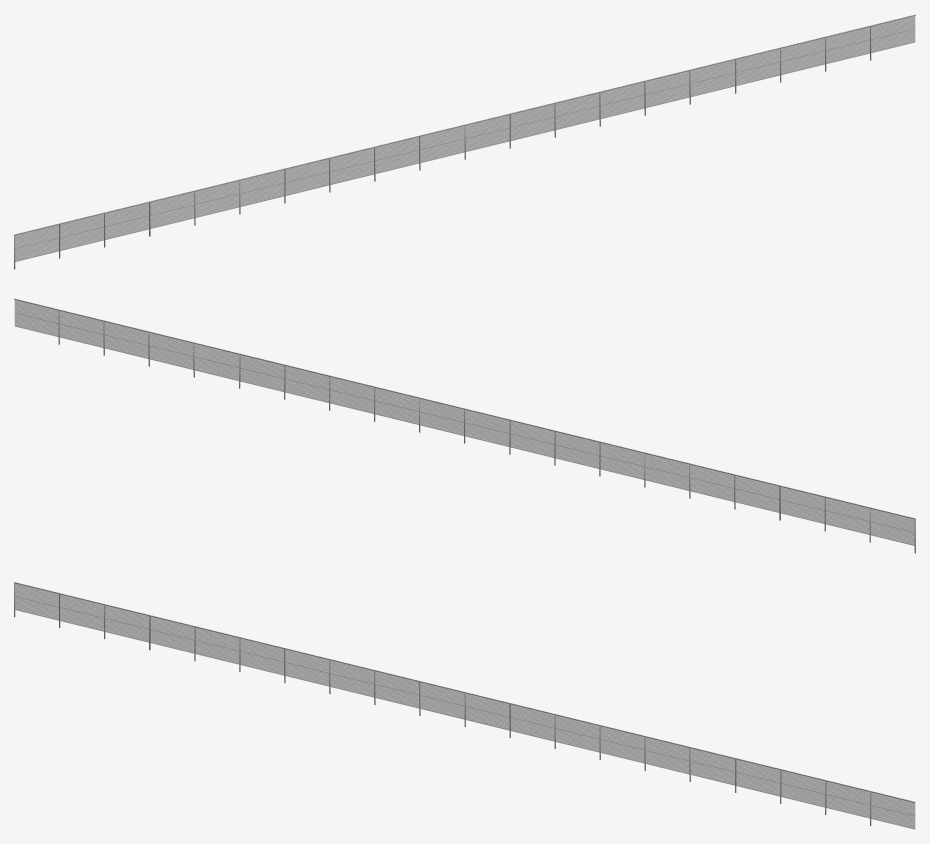
The model's file is fence-tall-chainlink-1rail-20s-cbj_LOD00.gltf.
The picture shows the model from 3 angles, top to bottom: view 1: azimuth 30°, elevation 25°; view 2: azimuth 150°, elevation 25°; view 3: azimuth 330°, elevation 25°; orthographic projection.
Visible parts, largest first — view 1: cube00; view 2: cube00; view 3: cube00.
Part boxes in pixels (x1=…): cube00: x1=14, y1=14, x2=915, y2=269; cube00: x1=14, y1=298, x2=915, y2=553; cube00: x1=14, y1=582, x2=915, y2=829.
Size of the model in its own units: 62.04 by 2.3 by 0.08.
